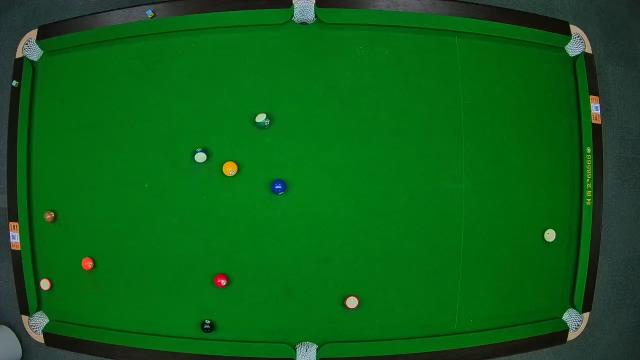bag1: (23, 38, 43, 62)
bag2: (294, 0, 316, 26)
bag3: (566, 34, 586, 56)
bag4: (29, 310, 49, 334)
bag5: (294, 342, 322, 360)
bag6: (562, 308, 584, 332)
ball0: (545, 226, 557, 244)
ball1: (223, 161, 237, 177)
ball10: (194, 148, 208, 164)
ball11: (345, 294, 361, 310)
ball12: (38, 278, 52, 292)
ball14: (254, 112, 272, 130)
ball2: (271, 180, 287, 196)
ball3: (214, 272, 228, 288)
ball5: (80, 257, 96, 271)
ball7: (44, 211, 58, 223)
ball8: (200, 318, 216, 334)
